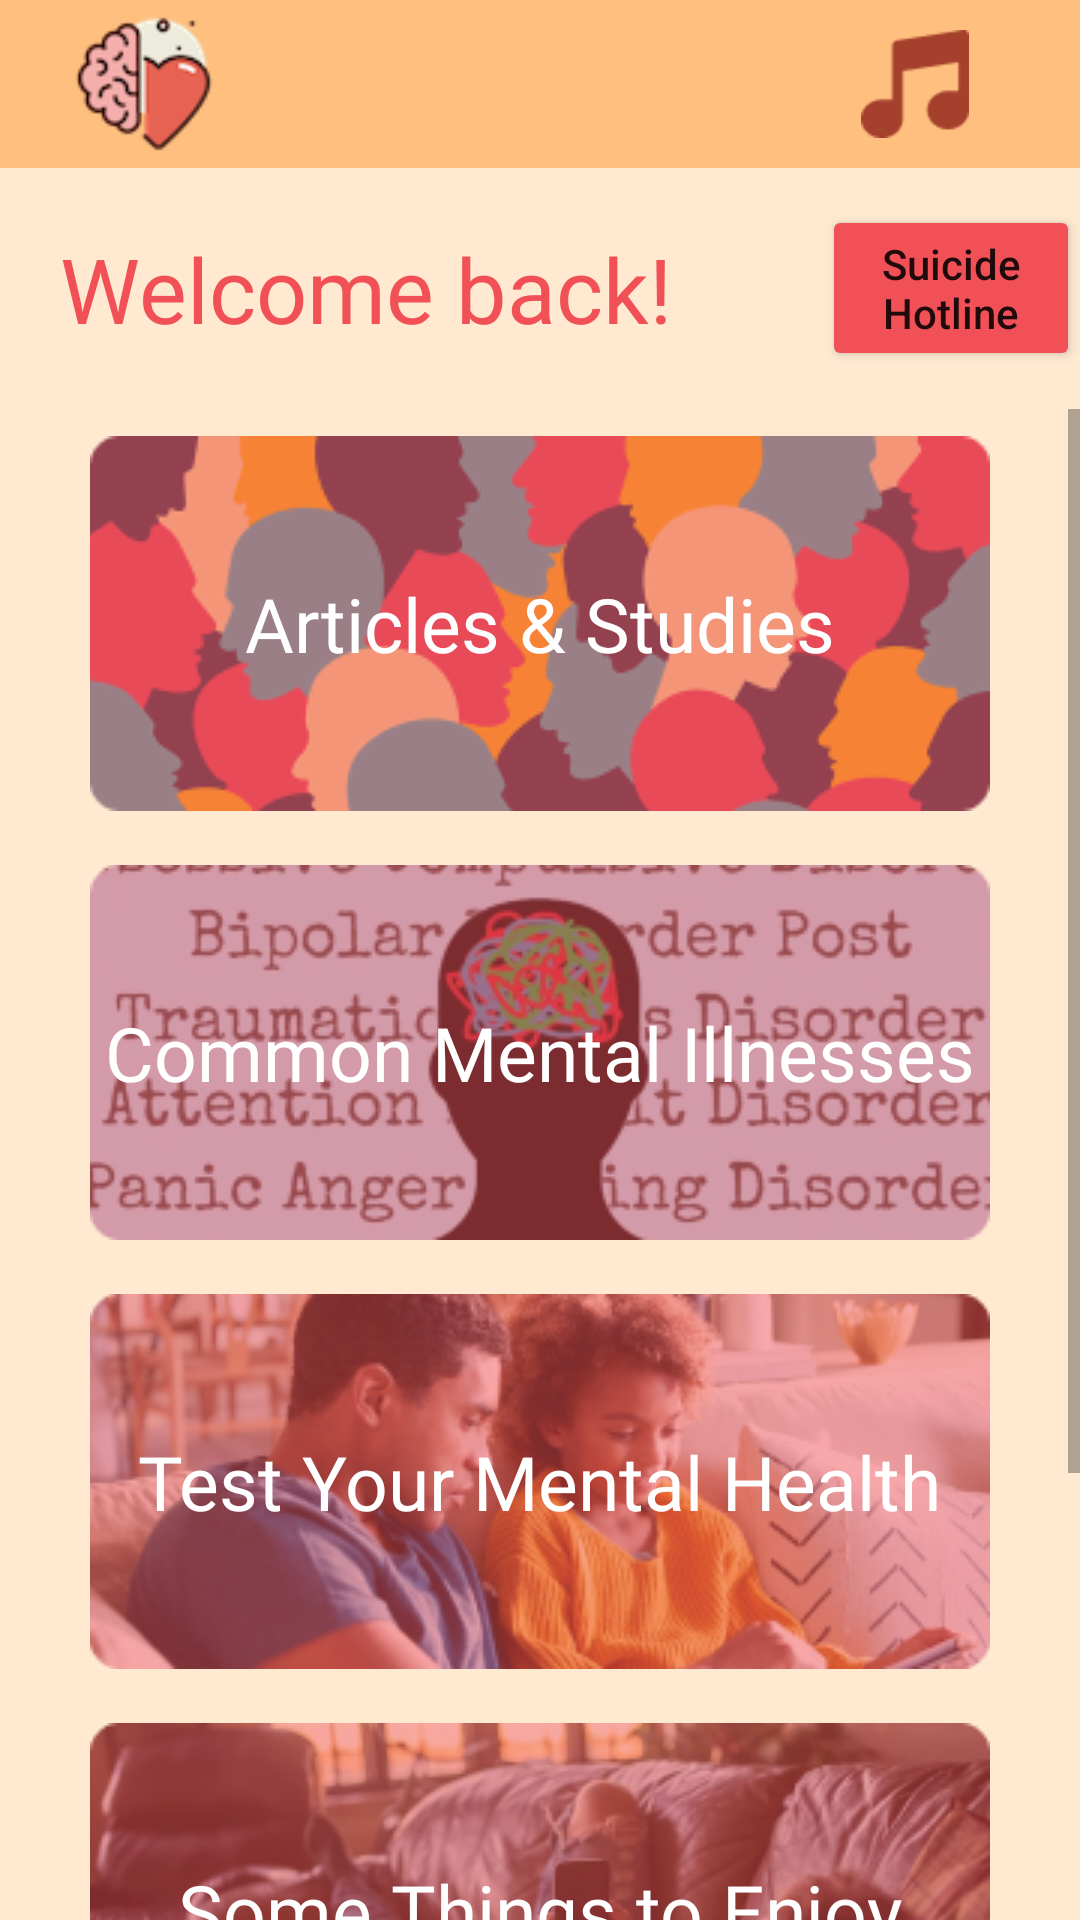

Where icons sit on this 1080 × 1920 app screen, as (x1, y1, x2, y2):
music: (861, 30, 969, 138)
